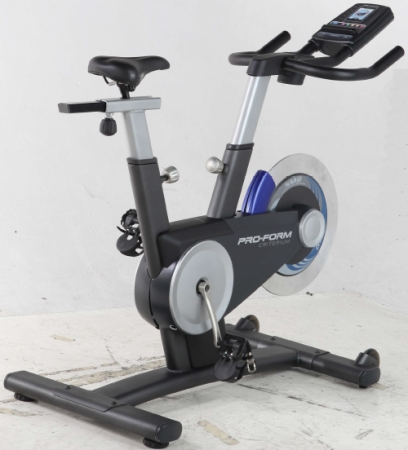gym_bike: (9, 6, 398, 440)
